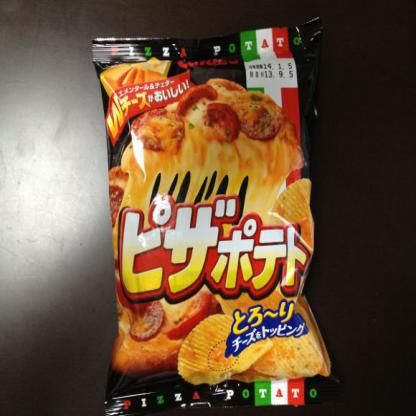potatochip: (81, 7, 350, 415)
